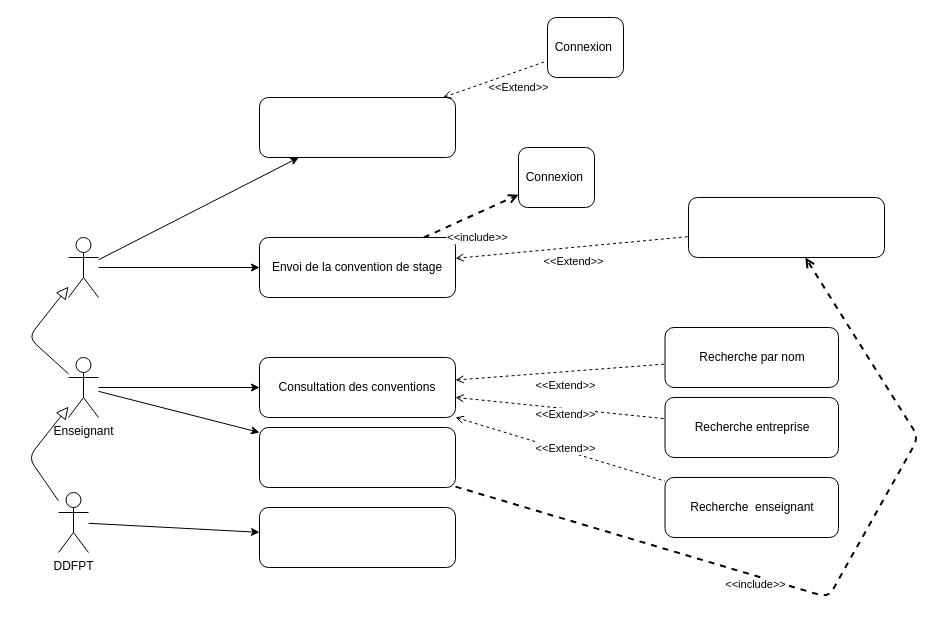
Some shapes in this 945 by 624 pixel diagram are drawn without their labels. The box of each missing label's shape, as (x1, y1, x2, y2) in pixels:
Création et remplissage de convention de stage: (258, 96, 456, 158)
Etudiant: (68, 236, 98, 298)
Imprimer convention de stage: (688, 196, 884, 258)
Signature de la convention de stage: (258, 506, 456, 568)
Validation pour édition des conventions de stage: (258, 426, 456, 488)
